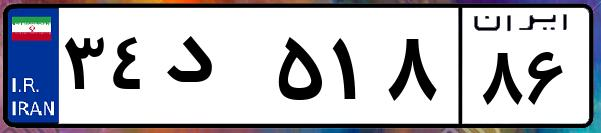1: (330, 28, 385, 110)
3: (57, 26, 110, 100)
4: (110, 28, 158, 98)
5: (270, 28, 330, 110)
6: (525, 38, 570, 115)
8: (385, 28, 445, 110), (475, 38, 525, 113)
د: (158, 20, 270, 120)
